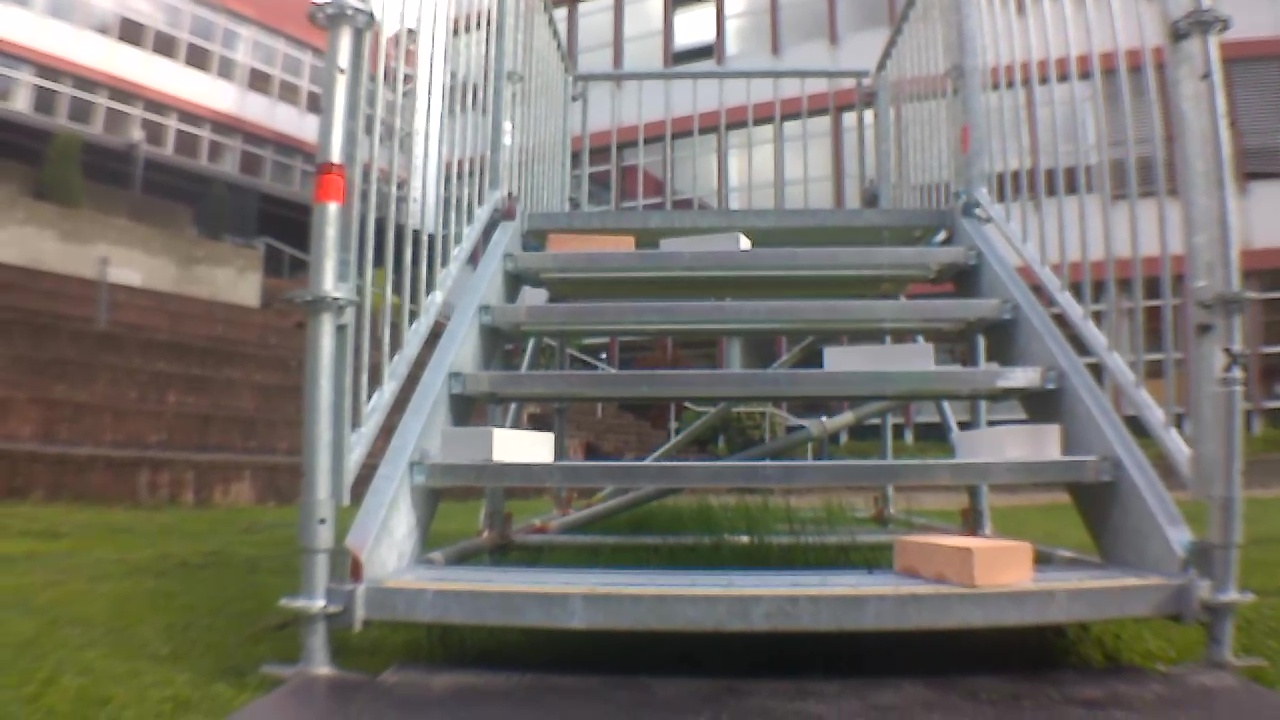brick: (895, 532, 1032, 586), (442, 426, 554, 461), (957, 426, 1061, 458), (823, 343, 933, 370), (662, 232, 749, 248), (548, 234, 633, 249)
edge: (363, 581, 1181, 629), (410, 455, 1114, 486), (447, 366, 1063, 396), (477, 299, 1020, 320), (505, 245, 981, 267), (528, 208, 953, 225)
stairs: (290, 1, 1255, 666)
steps: (358, 199, 1189, 638)
